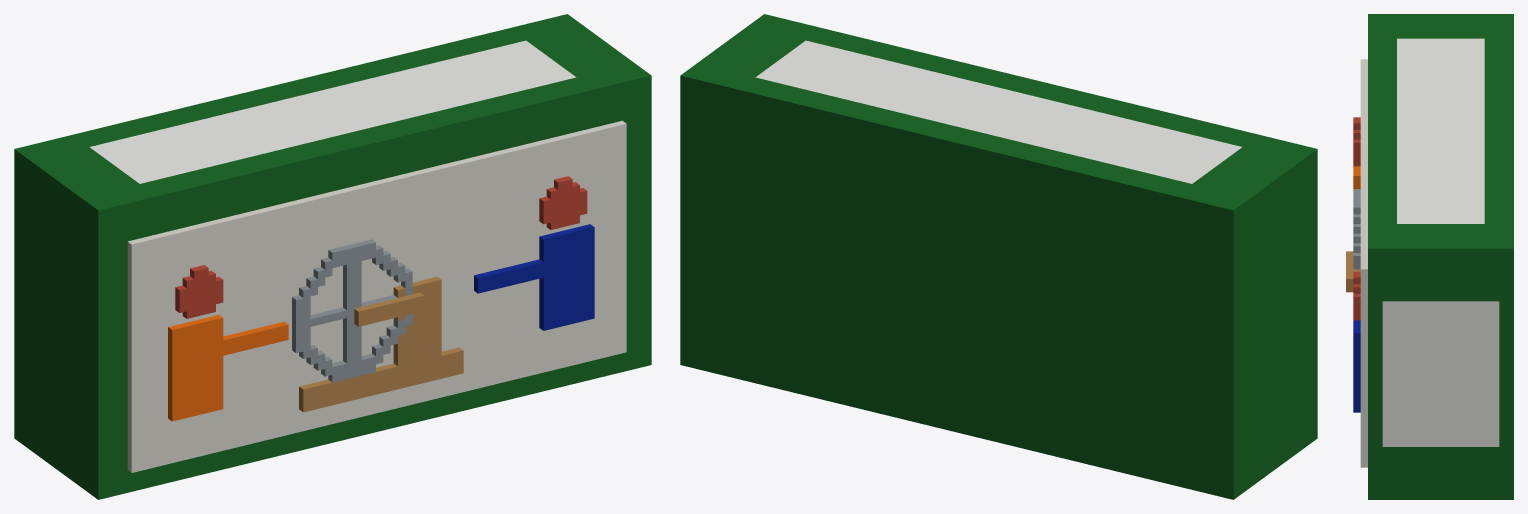
File: stirling_kit_box.glb
3 renders of one model, left to right at view 1: azimuth 30°, elevation 25°; view 2: azimuth 150°, elevation 25°; view 3: azimuth 270°, elevation 25°, orthographic. The views are drawn at different scales.
Parts seen in each view (by area): view 1: stirling_kit_box:compound; view 2: stirling_kit_box:compound; view 3: stirling_kit_box:compound.
Part boxes in pixels (box(x1,y1,x2,y2)): stirling_kit_box:compound: box(14, 14, 651, 499); stirling_kit_box:compound: box(680, 14, 1317, 499); stirling_kit_box:compound: box(1346, 14, 1513, 499).
Size of the model in its own units: 0.304 by 0.152 by 0.092.
